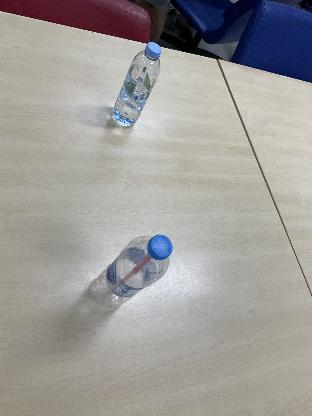Plastic Bottle: (89, 233, 171, 309), (112, 41, 162, 129)
